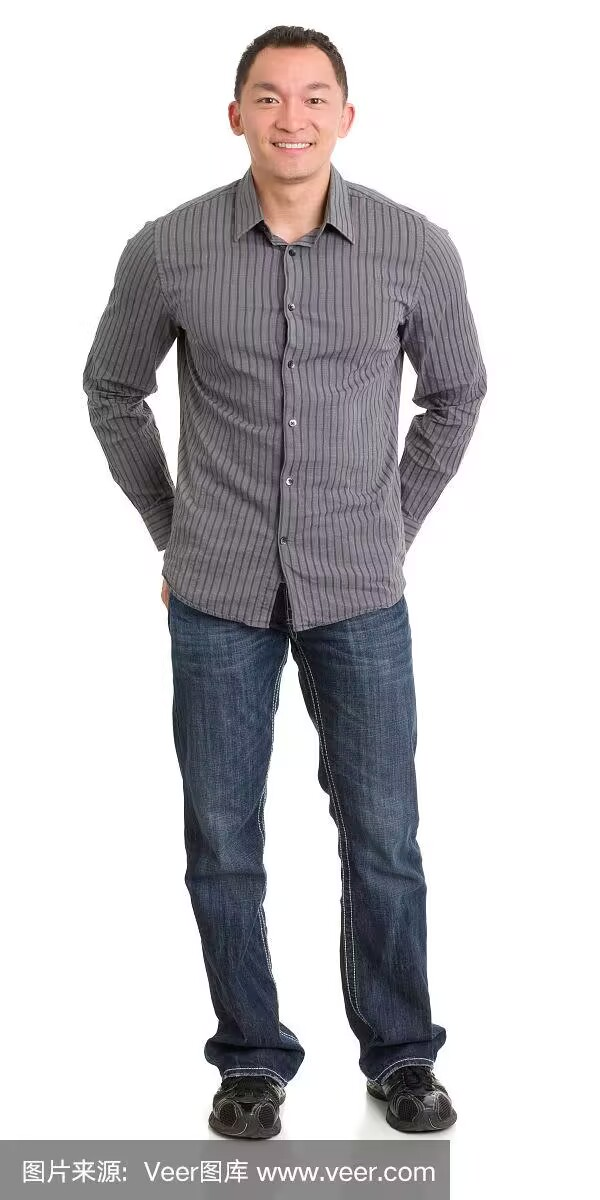up: (58, 23, 533, 1136)
